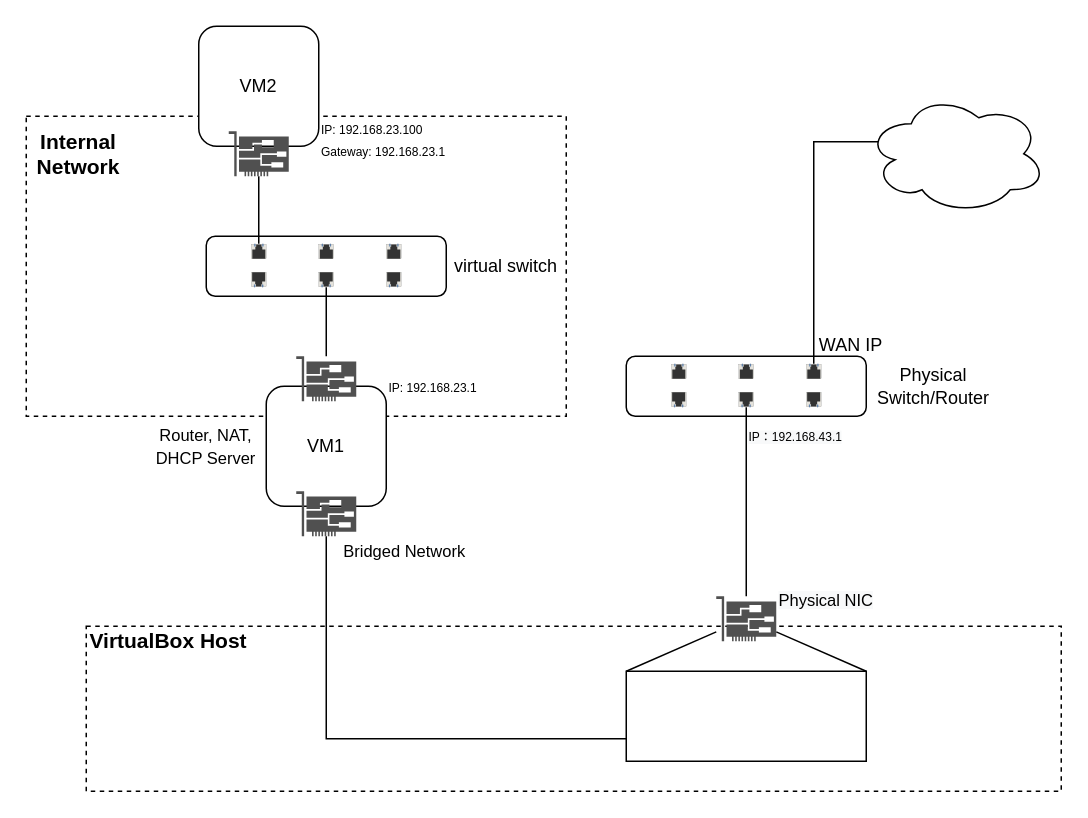
Some shapes in this 1088 by 818 pixel diagram are drawn without their labels. The shapes that lost their labels are listed below. From the top down, each one's centre as x and y in pixels, then its label:
At point 955,153: "Internet".
At point 745,715: "192.168.43.1 Gateway 192.168.43.194 Real IP 192.168.43.237 VM1 IP".
